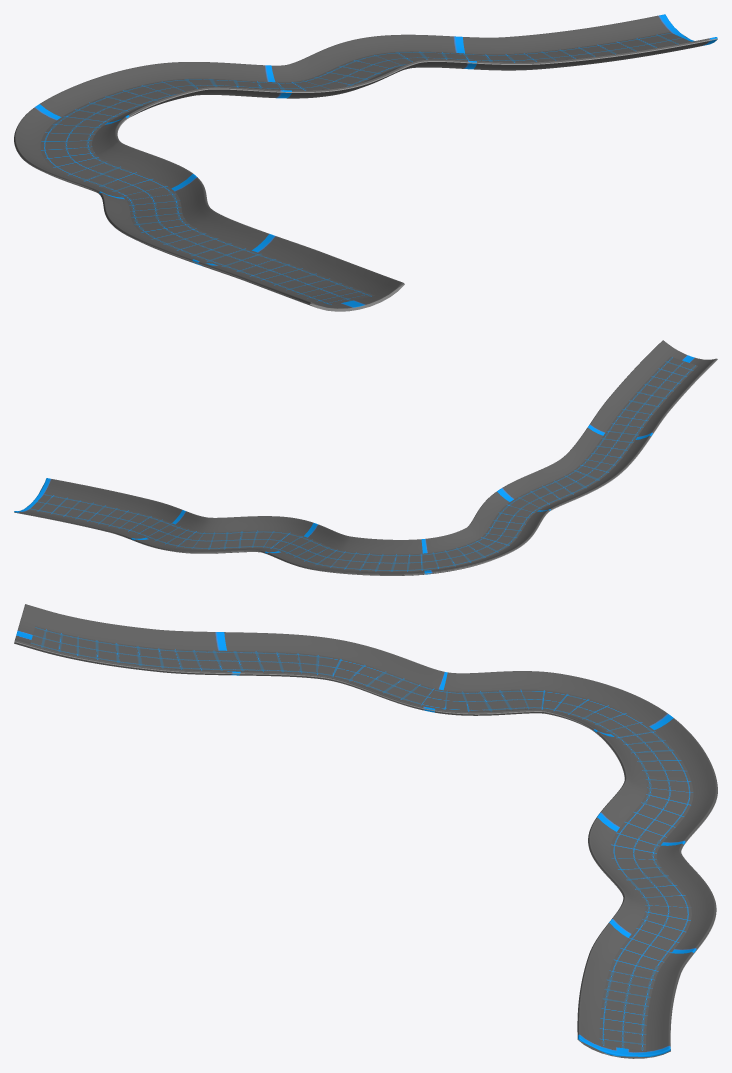
The model's file is Way.FBX.
3 views of the same model, one above another, from view 1: azimuth 30°, elevation 25°; view 2: azimuth 150°, elevation 25°; view 3: azimuth 270°, elevation 25° (orthographic). The views are drawn at different scales.
Visible parts, largest first — view 1: Group001, Plane001; view 2: Group001, Plane001; view 3: Group001, Plane001.
Part boxes in pixels (x1,y1,x2,y2): Group001: [14, 14, 717, 311]; Plane001: [40, 32, 690, 305]; Group001: [14, 340, 717, 575]; Plane001: [29, 356, 697, 571]; Group001: [14, 604, 717, 1058]; Plane001: [30, 626, 693, 1050].
Bounding box in the file's own units: 194058 × 39865 × 178073.
2 materials, 1 textured.
